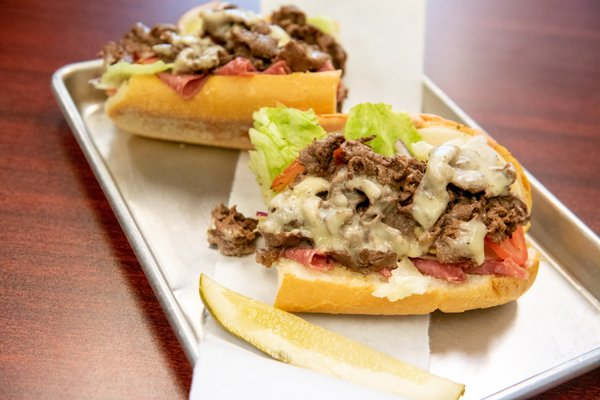soup: (244, 101, 541, 315), (90, 1, 349, 148)
